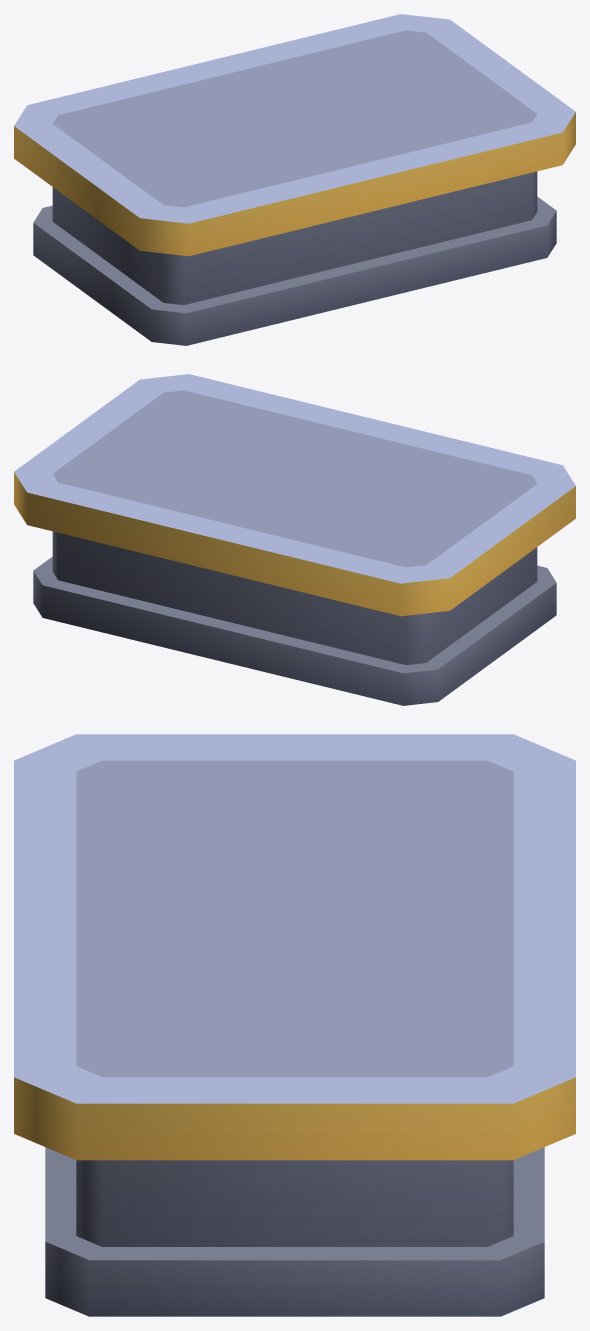
Rendered from station-table-large.glb.
3 views of the same model, one above another, from view 1: azimuth 30°, elevation 25°; view 2: azimuth 150°, elevation 25°; view 3: azimuth 270°, elevation 25° (orthographic). The views are drawn at different scales.
Visible parts, largest first — view 1: table-large; view 2: table-large; view 3: table-large.
Part boxes in pixels (x1,y1,x2,y2): table-large: (14,14,575,345); table-large: (14,374,575,705); table-large: (14,734,575,1316).
Size of the model in its own units: 1.4 by 0.4 by 0.9001.
1 material, 1 textured.
